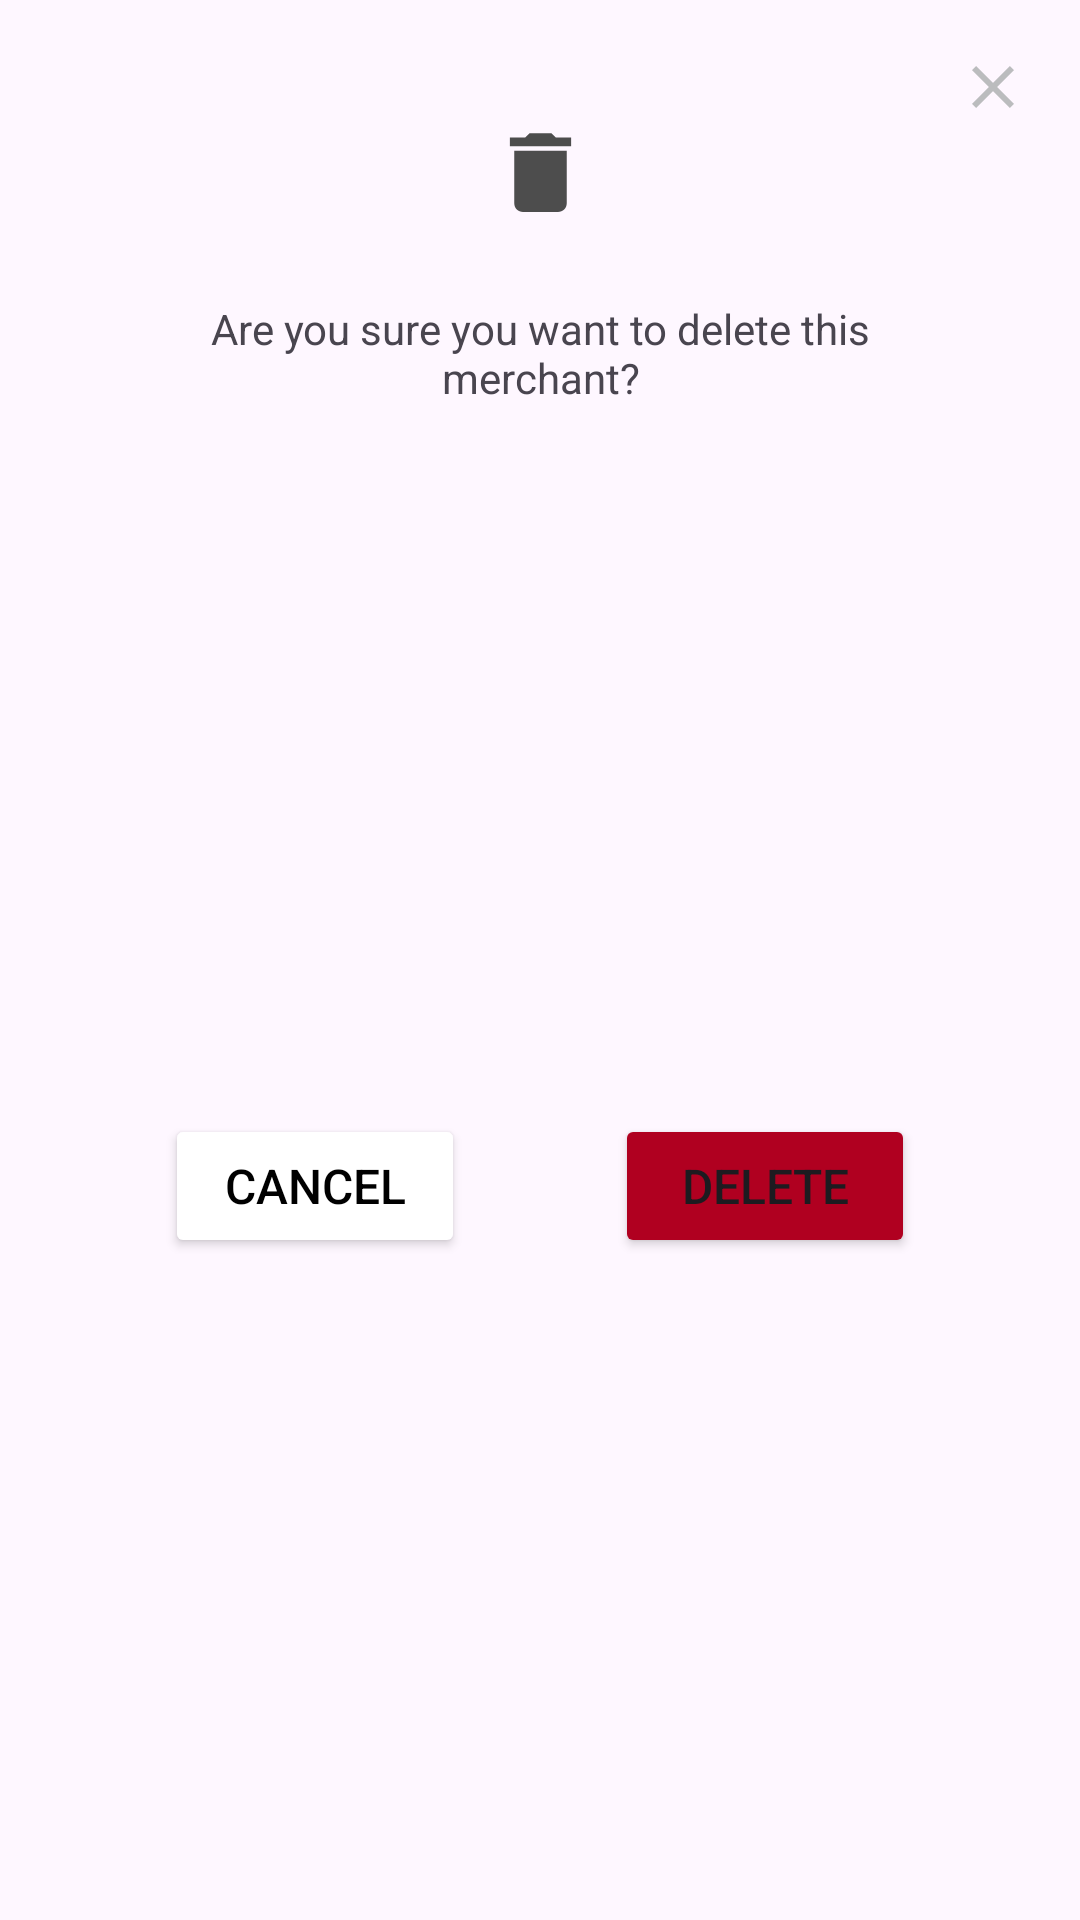

Locate icon controls on the screen. Image size 1080px x 1920px, boxes as bbox(x1, y1, x2, y2).
close: bbox(972, 66, 1014, 108)
merchantdetail delete: bbox(510, 133, 571, 212)
